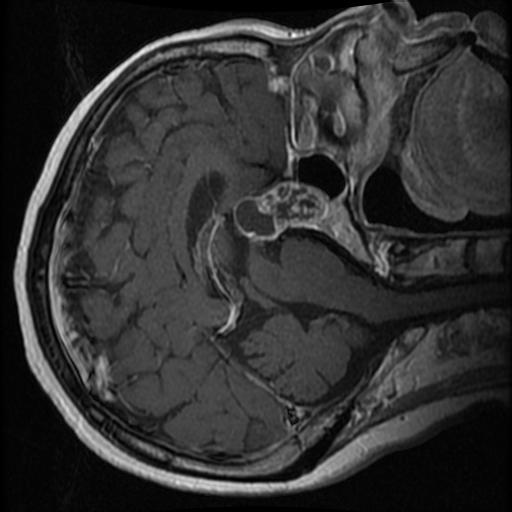pituitary tumour: (231, 181, 331, 243)
